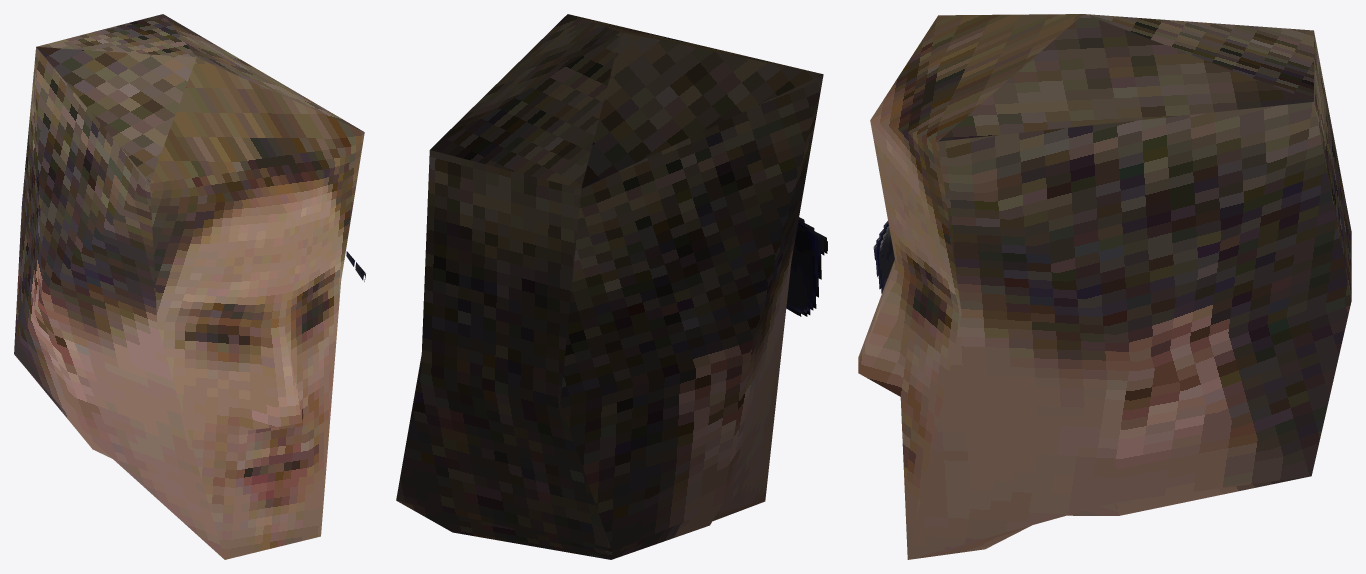
File: CheadshaunZ.obj
The picture shows the model from 3 angles, left to right: view 1: azimuth 30°, elevation 25°; view 2: azimuth 150°, elevation 25°; view 3: azimuth 270°, elevation 25°; orthographic projection. The views are drawn at different scales.
Bounding box in the file's own units: 154 × 252 × 210.
6 materials, 6 textured.
